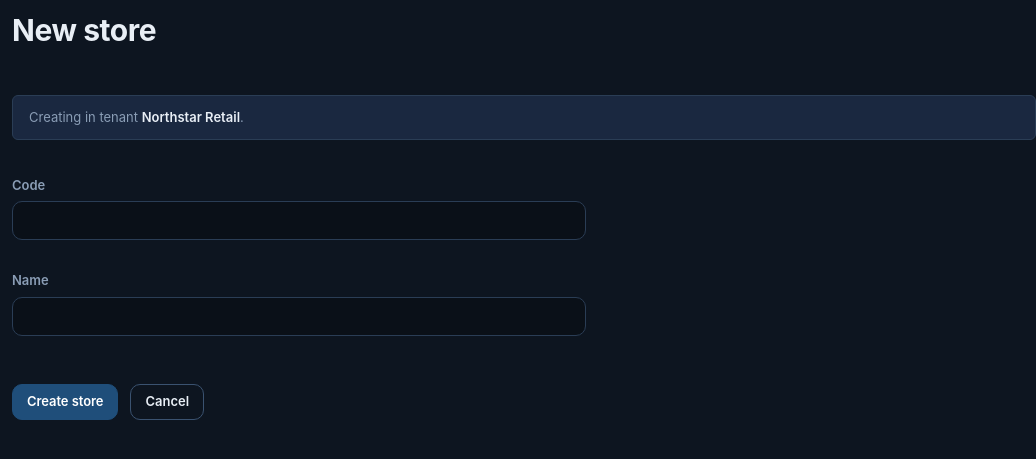
Test: StoreForm create › 409 store-code conflict -> inline on the code field, no route change
In the field labelled "Code": (299, 221) [12, 201, 586, 240], type "DUP"
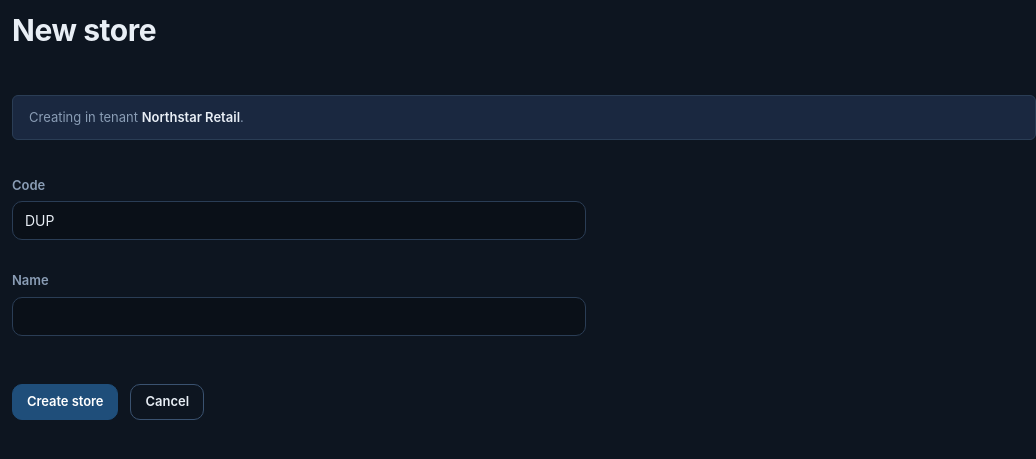
In the field labelled "Name": (299, 316) [12, 296, 586, 336], type "Dup Store"
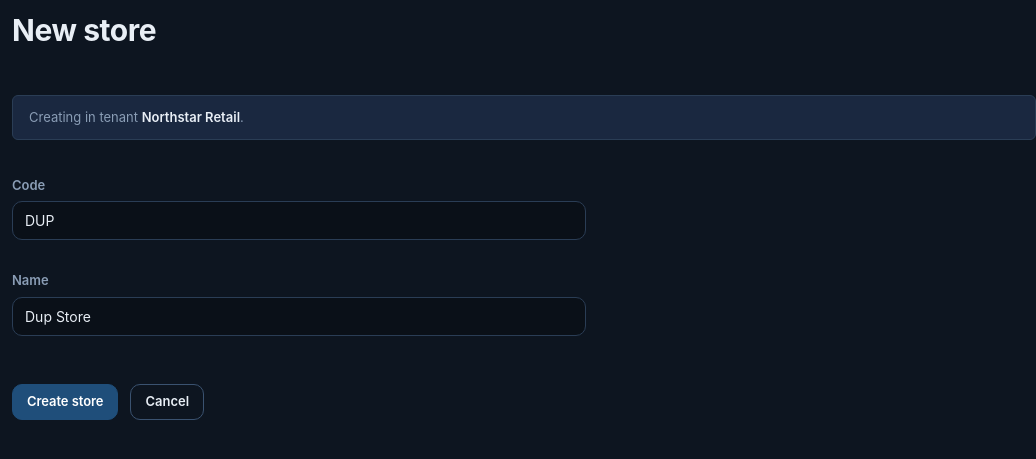
Click the button "Create store": (65, 402) [12, 384, 118, 420]
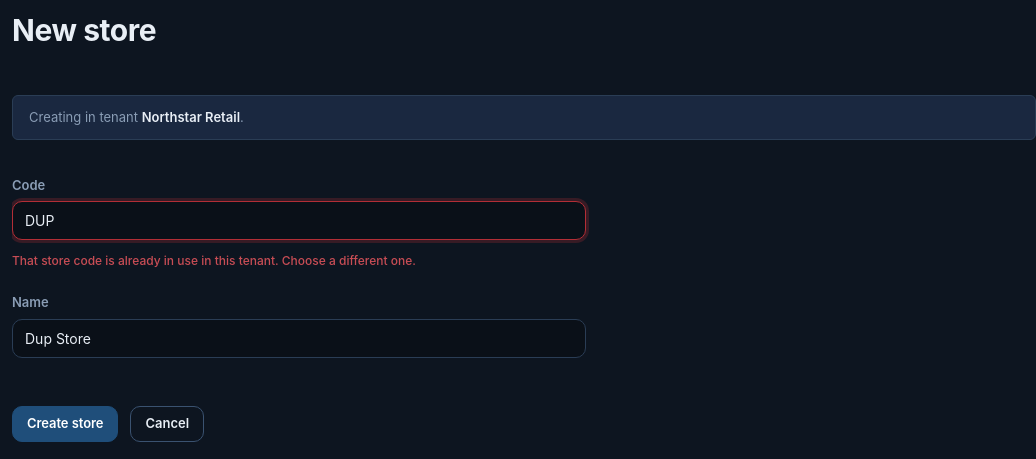
Expected: the text "That store code is already in use in this tenant. Choose a different one." is shown, [12, 253, 416, 268]
